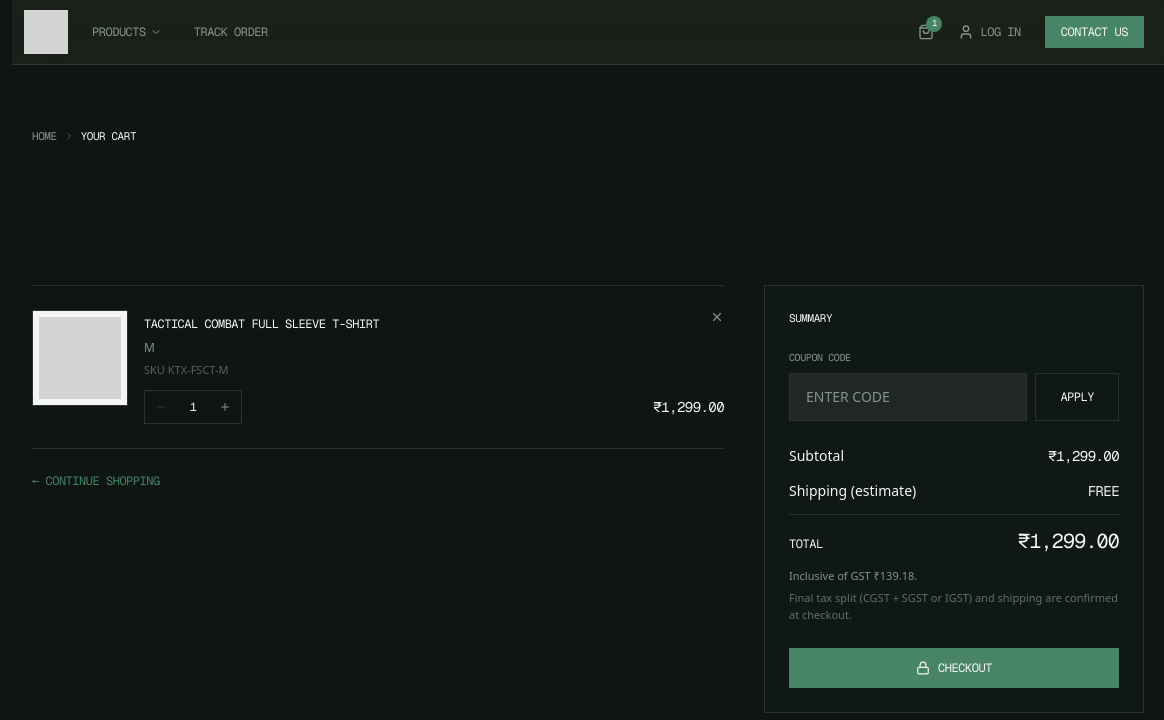
Test: checkout without saved addresses (fake gateway) › guests are sent to log in first, and come back to checkout
Click the button "Checkout" at (954, 668), box [789,648,1119,688]
(page scrolled)
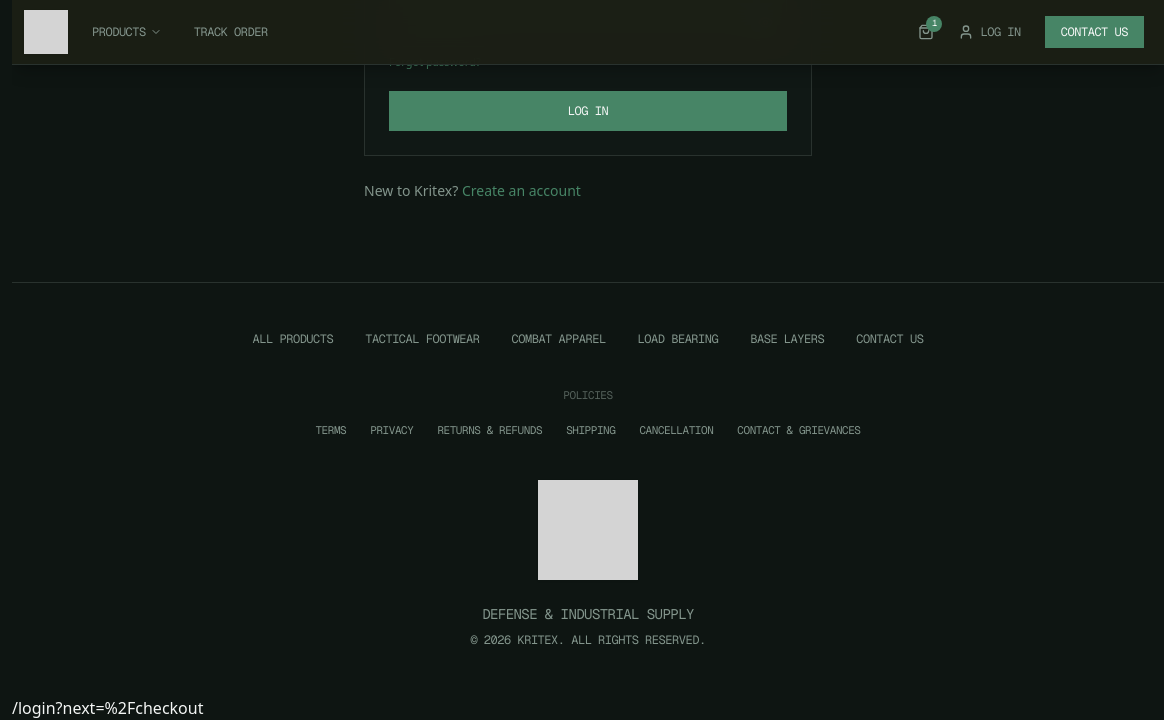
Expected: the text with test id "location" reads "/login?next=%2Fcheckout", [12,697,204,719]
